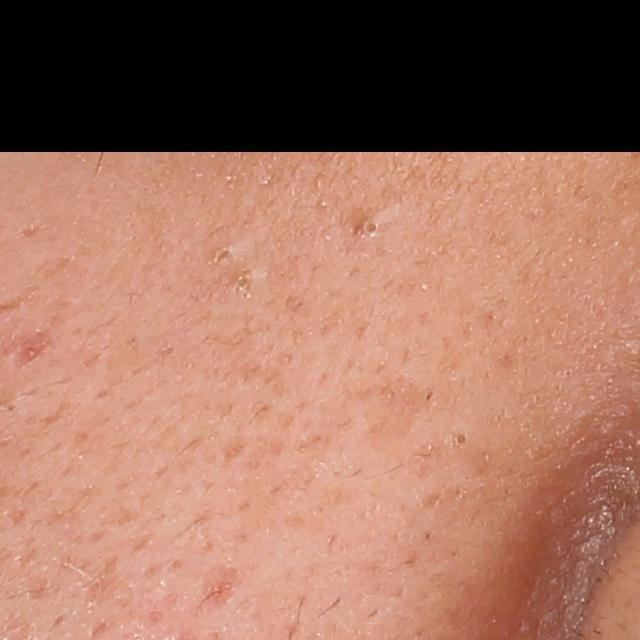atrophic_scar: (195, 561, 242, 613)
comedo: (357, 207, 390, 247), (230, 274, 256, 296), (209, 245, 236, 264), (450, 427, 467, 449)
